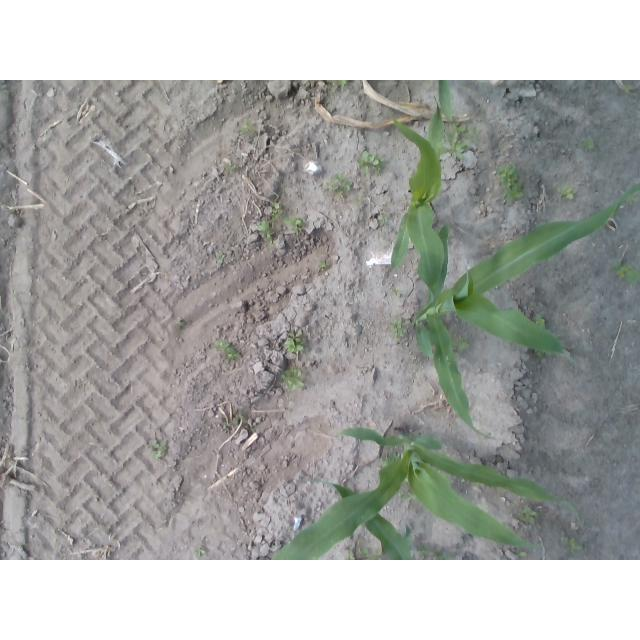Maize: (411, 185, 640, 439), (271, 426, 581, 560), (386, 96, 444, 317), (312, 477, 413, 560), (438, 80, 458, 120)
Weeds: (358, 150, 384, 174), (326, 172, 352, 196), (282, 369, 305, 392), (445, 134, 467, 158), (505, 177, 525, 203), (258, 221, 276, 243), (520, 507, 536, 525), (393, 319, 408, 338), (566, 537, 582, 554), (287, 336, 303, 353), (454, 334, 470, 350), (241, 119, 256, 136), (153, 440, 168, 457), (499, 165, 515, 180), (285, 219, 304, 230), (215, 340, 229, 353), (627, 269, 639, 284), (378, 212, 390, 227), (273, 202, 283, 220), (450, 123, 467, 133), (227, 347, 241, 359), (584, 139, 596, 152), (563, 186, 576, 198), (615, 264, 625, 279), (535, 314, 546, 325), (468, 128, 478, 140), (330, 80, 350, 86), (434, 551, 447, 560), (225, 163, 236, 173), (176, 317, 185, 329), (354, 193, 363, 205), (218, 253, 227, 264), (403, 491, 414, 500), (623, 85, 634, 94), (372, 549, 381, 559), (418, 545, 427, 555), (392, 288, 402, 297), (222, 422, 230, 432), (233, 414, 243, 422), (195, 548, 205, 556), (319, 260, 329, 268), (517, 551, 527, 558), (349, 552, 356, 560), (363, 549, 370, 555)
